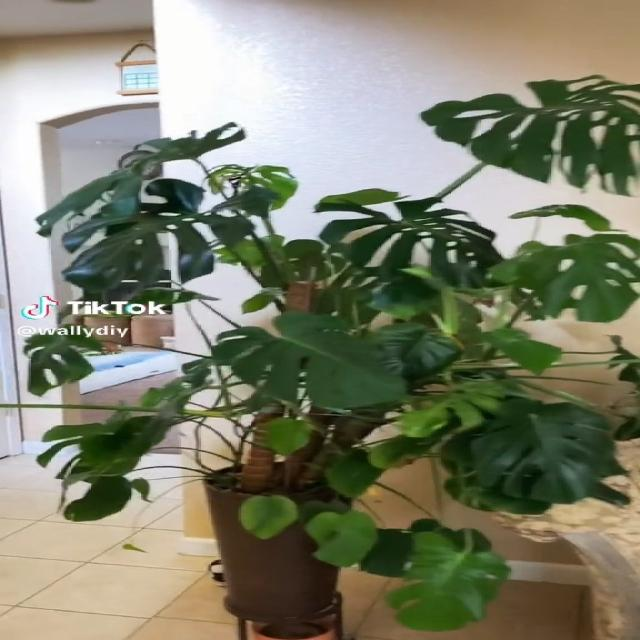roslina_zdrowa: (22, 73, 640, 632)
